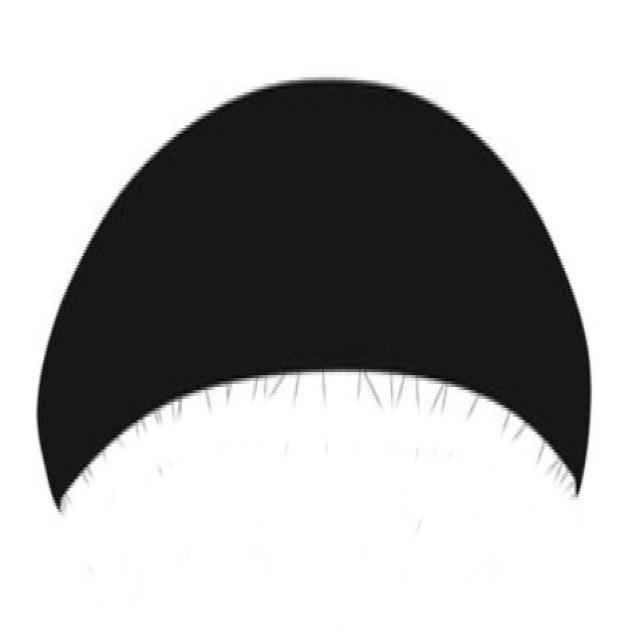paraglider: (35, 74, 592, 515)
